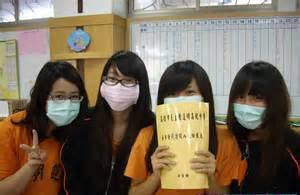OK: (47, 89, 83, 127), (104, 72, 140, 110), (235, 91, 270, 130), (167, 85, 204, 120)
